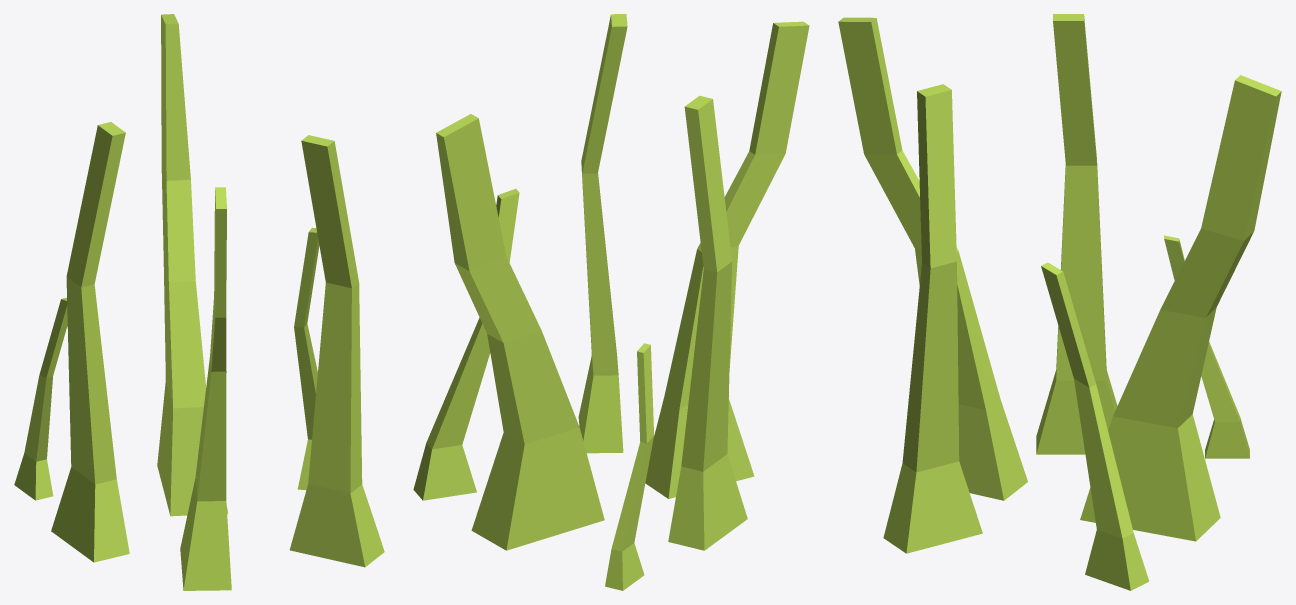
Rendered from grass_1.glb.
3 views of the same model, side by side, from view 1: azimuth 30°, elevation 25°; view 2: azimuth 150°, elevation 25°; view 3: azimuth 270°, elevation 25° (orthographic). The views are drawn at different scales.
Visible parts, largest first — view 1: Cube.001; view 2: Cube.001; view 3: Cube.001.
Part boxes in pixels (x1,y1,x2,y2): Cube.001: (14, 14, 384, 590); Cube.001: (413, 14, 809, 590); Cube.001: (838, 14, 1281, 590).
Size of the model in its own units: 0.5169 by 0.75 by 0.6609.
